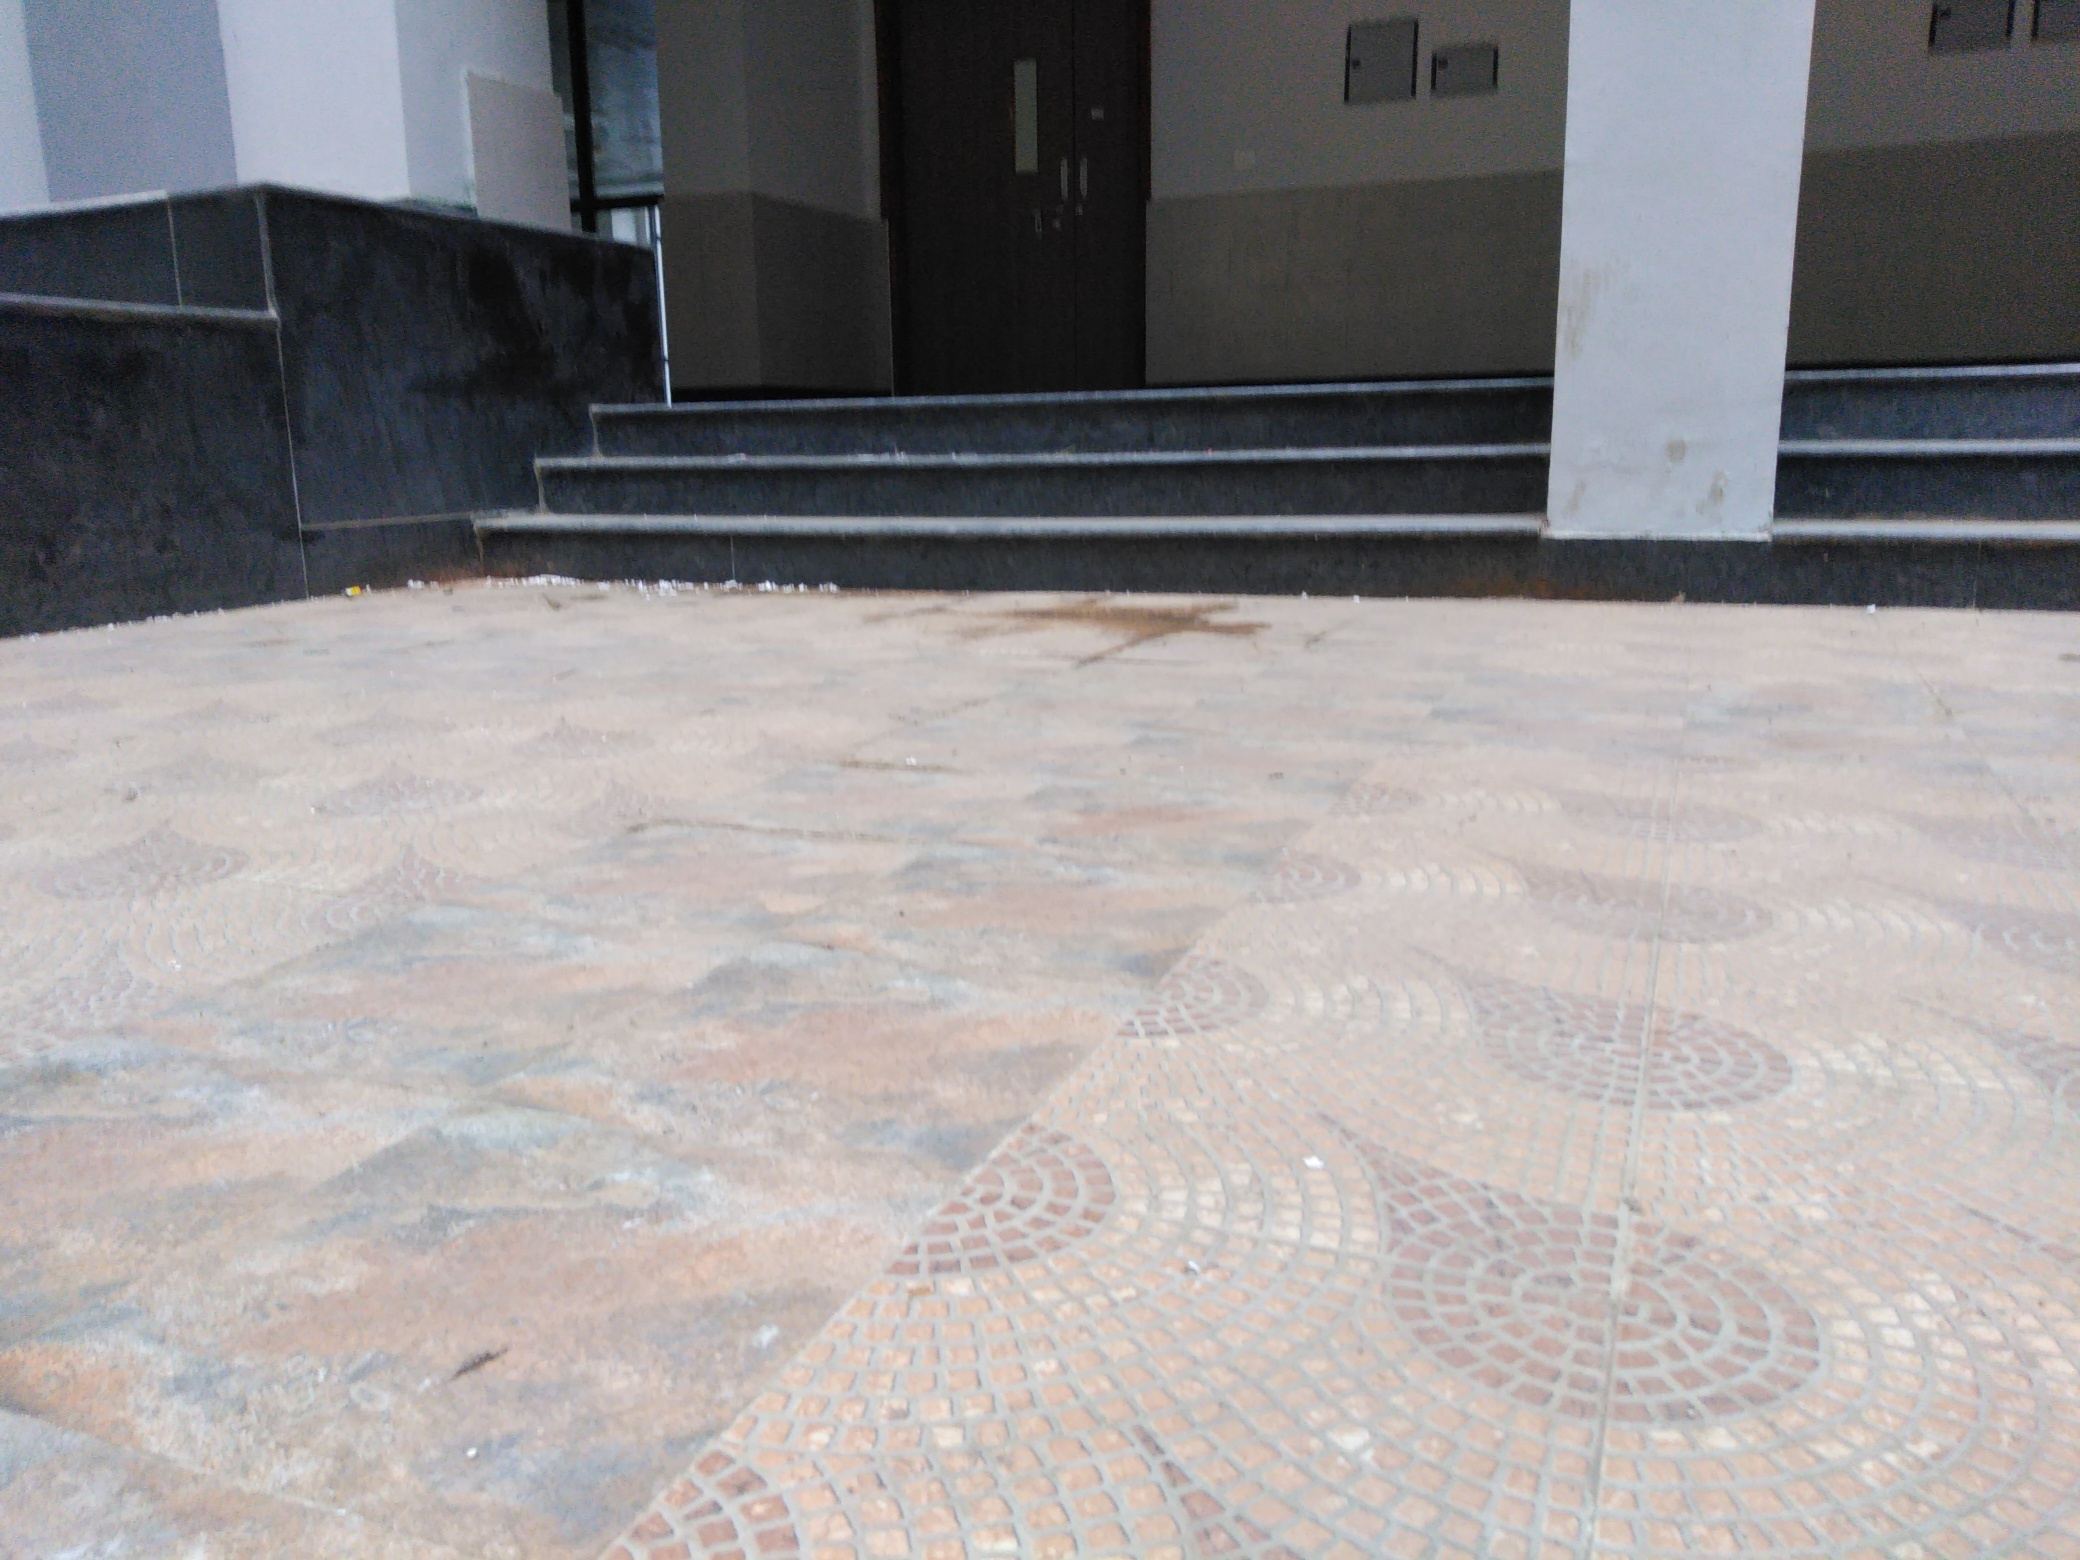stairs_up: (449, 347, 2075, 618)
